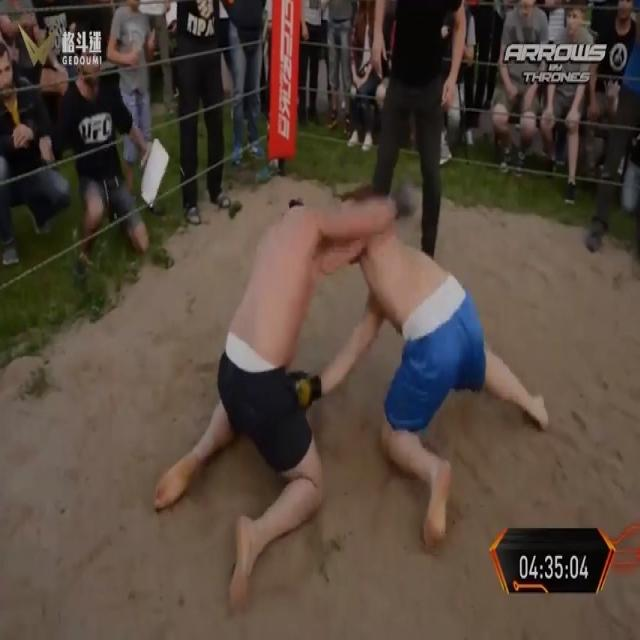fight: (149, 177, 553, 606)
non-fight: (354, 0, 465, 266), (162, 0, 238, 228), (0, 2, 57, 270), (543, 2, 597, 198), (450, 0, 504, 155), (318, 0, 362, 136)
